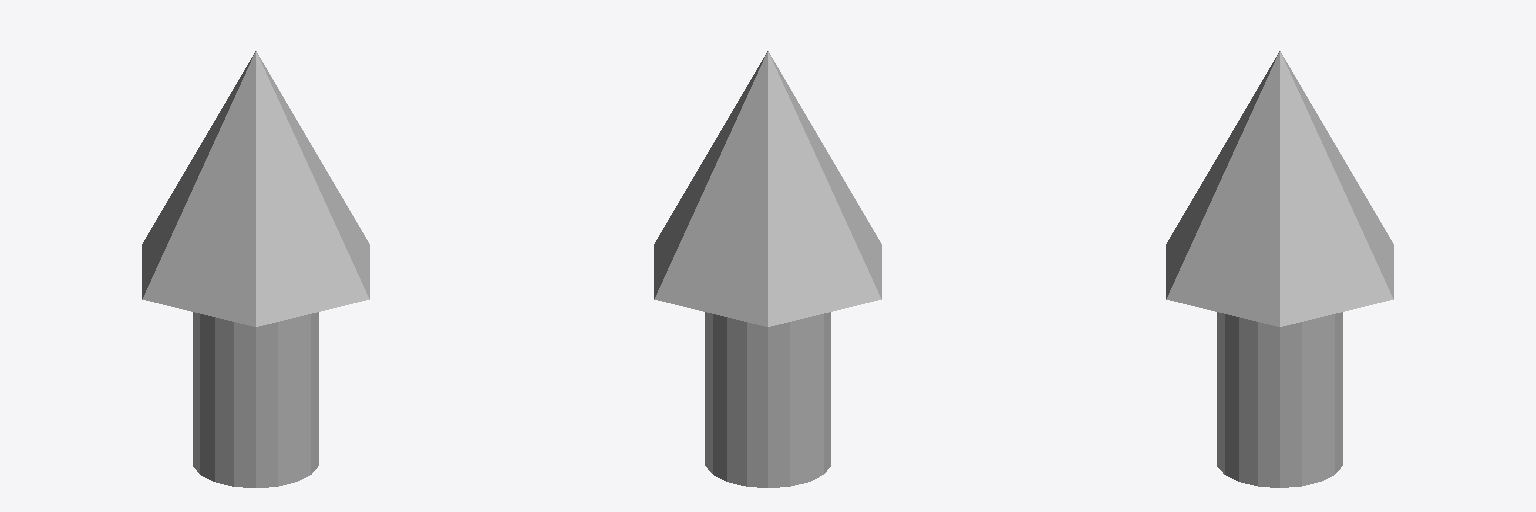
Rendered from nanorod.obj.
3 renders of one model, left to right at view 1: azimuth 30°, elevation 25°; view 2: azimuth 150°, elevation 25°; view 3: azimuth 270°, elevation 25°, orthographic.
Visible parts, largest first — view 1: Spindle02, Cylinder01; view 2: Spindle02, Cylinder01; view 3: Spindle02, Cylinder01.
Boxes of the visible parts, <box> form: Spindle02: <box>142,51,369,326</box>; Cylinder01: <box>193,312,318,487</box>; Spindle02: <box>654,51,881,326</box>; Cylinder01: <box>705,312,830,487</box>; Spindle02: <box>1166,51,1393,326</box>; Cylinder01: <box>1217,312,1342,487</box>.
Size of the model in its own units: 113 by 195 by 97.86.